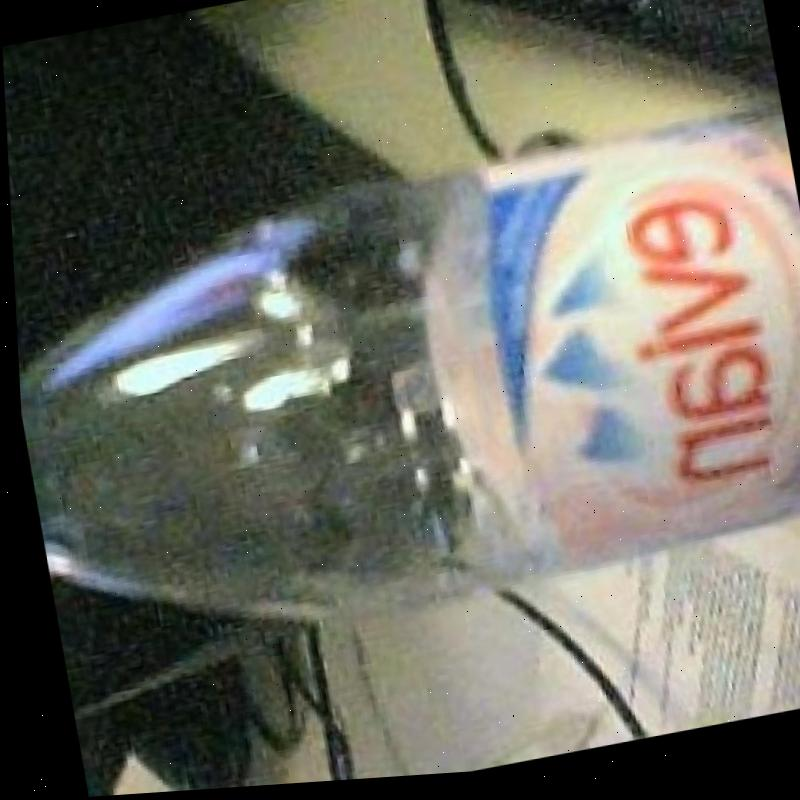botella: (6, 112, 800, 670)
